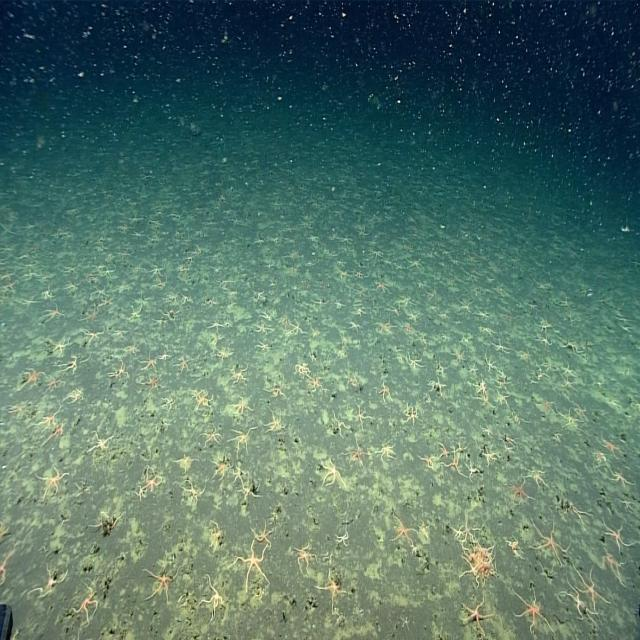brittle-stars: (574, 555, 607, 617), (515, 582, 550, 640), (530, 520, 570, 568), (67, 578, 100, 630), (238, 543, 268, 598), (600, 535, 628, 592), (199, 578, 227, 628), (33, 560, 63, 606), (607, 519, 636, 564), (201, 511, 226, 560), (0, 540, 22, 594), (148, 559, 172, 608), (448, 510, 478, 546), (36, 468, 69, 500), (557, 498, 591, 528), (86, 424, 116, 457), (293, 538, 314, 582), (251, 515, 275, 553), (182, 479, 208, 514), (563, 582, 585, 623), (612, 461, 636, 498), (465, 600, 490, 634), (324, 567, 344, 608), (141, 466, 168, 495), (7, 398, 32, 429), (502, 426, 521, 463), (394, 517, 416, 548), (322, 459, 342, 493), (60, 354, 84, 382), (473, 379, 491, 416), (510, 474, 530, 506), (560, 336, 582, 365), (349, 439, 366, 476), (469, 551, 494, 576), (107, 359, 129, 387), (192, 389, 214, 416), (559, 408, 581, 435), (177, 444, 195, 476), (504, 537, 528, 561), (175, 351, 197, 377), (401, 408, 427, 430), (404, 349, 422, 380), (231, 392, 250, 421), (420, 453, 439, 482), (4, 272, 20, 306), (203, 424, 223, 451), (600, 432, 618, 462), (124, 342, 145, 366), (537, 333, 556, 359), (541, 394, 558, 423), (352, 402, 370, 429), (428, 380, 449, 403), (232, 427, 250, 453), (530, 467, 546, 495), (42, 369, 59, 395), (144, 372, 161, 398), (399, 288, 416, 314), (25, 367, 43, 391), (69, 381, 85, 408), (62, 262, 82, 283), (97, 257, 112, 285), (482, 446, 497, 474), (142, 356, 161, 378), (82, 329, 105, 347), (466, 458, 481, 485), (50, 422, 70, 442), (538, 313, 554, 338), (377, 323, 396, 344), (254, 322, 276, 340), (564, 308, 580, 332), (92, 283, 111, 303), (264, 414, 284, 433), (213, 459, 231, 480), (498, 386, 512, 413), (158, 309, 180, 326), (230, 367, 247, 389), (481, 354, 498, 376), (380, 442, 396, 465), (496, 364, 512, 387), (213, 347, 231, 367), (230, 465, 245, 489), (270, 381, 288, 401), (308, 374, 323, 398), (591, 446, 605, 471), (23, 264, 42, 282), (40, 287, 56, 308), (240, 484, 256, 505), (338, 527, 352, 551), (621, 492, 634, 517), (405, 258, 423, 276), (380, 380, 391, 409), (54, 344, 75, 359), (48, 302, 62, 324), (523, 299, 537, 321), (477, 319, 493, 338), (576, 404, 591, 424), (331, 414, 346, 434), (534, 362, 547, 385), (114, 324, 128, 345), (149, 259, 165, 277), (74, 481, 92, 497), (388, 302, 404, 320), (316, 300, 331, 319), (437, 440, 451, 460), (292, 321, 306, 341), (468, 356, 480, 379), (252, 287, 268, 304), (86, 306, 101, 324), (459, 300, 474, 318), (296, 359, 310, 378), (144, 217, 164, 230), (452, 450, 462, 476), (190, 241, 206, 257), (172, 208, 188, 224), (84, 272, 101, 287), (137, 483, 148, 506), (43, 408, 55, 429), (454, 350, 468, 368), (354, 303, 368, 321), (337, 265, 349, 286), (0, 511, 8, 542), (129, 303, 140, 325), (254, 232, 265, 254), (180, 288, 192, 308), (404, 321, 416, 341), (256, 344, 276, 356), (438, 330, 453, 346), (166, 398, 180, 415), (560, 362, 574, 379), (139, 291, 149, 314), (151, 275, 170, 287), (166, 293, 181, 308), (157, 347, 172, 362), (433, 358, 447, 374), (330, 297, 344, 313), (209, 317, 223, 332), (496, 342, 511, 356), (374, 283, 388, 298), (496, 287, 511, 301), (118, 223, 130, 240), (133, 229, 144, 247), (66, 284, 80, 298), (218, 276, 232, 290), (259, 309, 273, 323), (210, 330, 222, 346), (120, 248, 132, 264), (180, 261, 192, 277), (474, 310, 493, 320), (280, 315, 294, 328), (429, 285, 439, 303), (557, 294, 569, 309), (358, 227, 371, 240), (104, 292, 112, 312), (350, 318, 360, 334), (328, 230, 339, 244), (371, 247, 381, 261), (174, 233, 184, 244)
